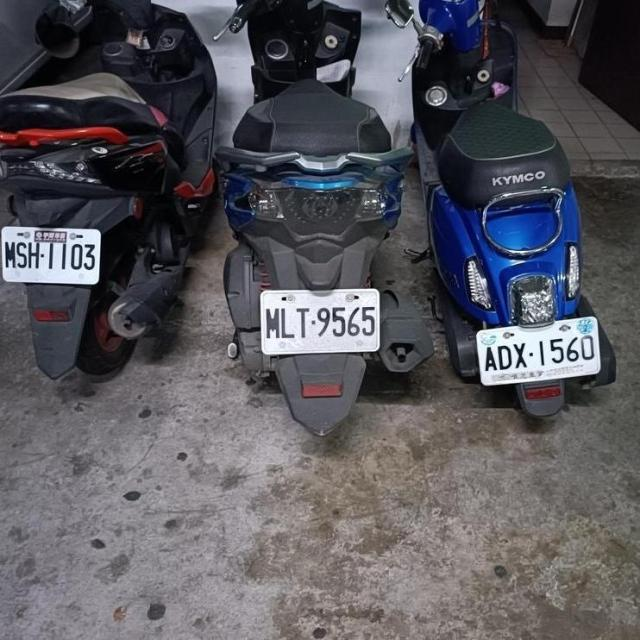W: (474, 315, 604, 387), (259, 286, 380, 354), (0, 221, 102, 285)
